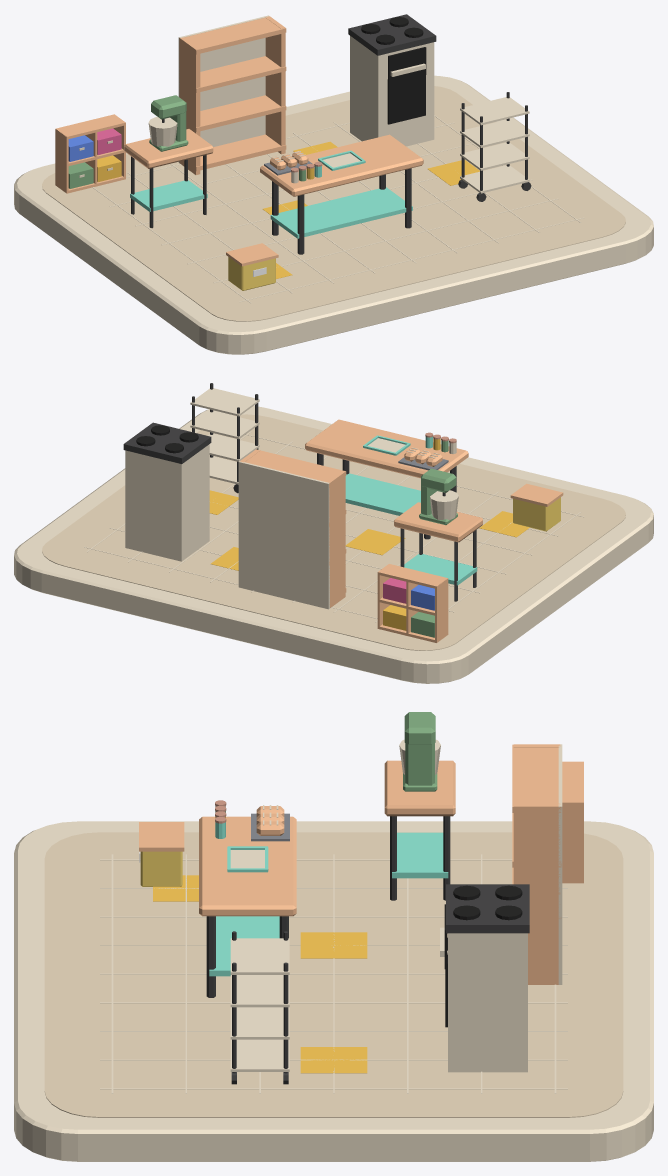
The model's file is room.fbx.
3 views of the same model, one above another, from view 1: azimuth 30°, elevation 25°; view 2: azimuth 150°, elevation 25°; view 3: azimuth 270°, elevation 25° (orthographic). The views are drawn at different scales.
Parts seen in each view (by area): view 1: COM-02 Floor Surface, COM-01 Rounded Base Direct, Stove, Back, Worktop, Lower shelf, Side.001, Side, Shelf.003, Hob, Worktop.001, Shelf.001 (+20 smaller); view 2: COM-02 Floor Surface, COM-01 Rounded Base Direct, Back, Stove, Worktop, Lower shelf, Side, Hob, Worktop.001, Shelf.003, Box, Lower shelf.001 (+16 smaller); view 3: COM-02 Floor Surface, COM-01 Rounded Base Direct, Stove, Worktop, Side.001, Worktop.001, Hob, Shelf.003, Lower shelf.001, Rack shelf.003, Lower shelf, Geometric color tile.001 (+17 smaller).
Part boxes in pixels (box(x1,y1,x2,y2)): COM-02 Floor Surface: box(42, 86, 625, 321); COM-01 Rounded Base Direct: box(14, 75, 653, 354); Stove: box(350, 36, 434, 146); Back: box(178, 15, 269, 163); Worktop: box(260, 134, 423, 196); Lower shelf: box(270, 187, 412, 238); Side.001: box(265, 16, 285, 154); Side: box(179, 37, 200, 174); Shelf.003: box(185, 17, 286, 54); Hob: box(348, 14, 436, 55); Worktop.001: box(124, 129, 213, 168); Shelf.001: box(186, 95, 286, 131); COM-02 Floor Surface: box(42, 414, 625, 650); COM-01 Rounded Base Direct: box(14, 405, 653, 683); Back: box(238, 461, 329, 609); Stove: box(125, 444, 209, 561); Worktop: box(305, 419, 468, 478); Lower shelf: box(345, 473, 420, 515); Side: box(326, 470, 345, 607); Hob: box(123, 422, 211, 463); Worktop.001: box(394, 502, 482, 542); Shelf.003: box(245, 449, 346, 487); Box: box(513, 497, 560, 531); Lower shelf.001: box(404, 554, 477, 585); COM-02 Floor Surface: box(44, 832, 623, 1117); COM-01 Rounded Base Direct: box(14, 821, 653, 1161); Stove: box(448, 933, 527, 1072); Worktop: box(199, 816, 296, 916); Side.001: box(513, 803, 560, 984); Worktop.001: box(384, 760, 455, 816); Hob: box(446, 884, 529, 933); Shelf.003: box(512, 744, 561, 812); Lower shelf.001: box(392, 832, 448, 878); Rack shelf.003: box(230, 938, 289, 974); Lower shelf: box(209, 916, 279, 976); Geometric color tile.001: box(300, 932, 367, 958).
Size of the model in its own units: 600 by 190 by 520.
